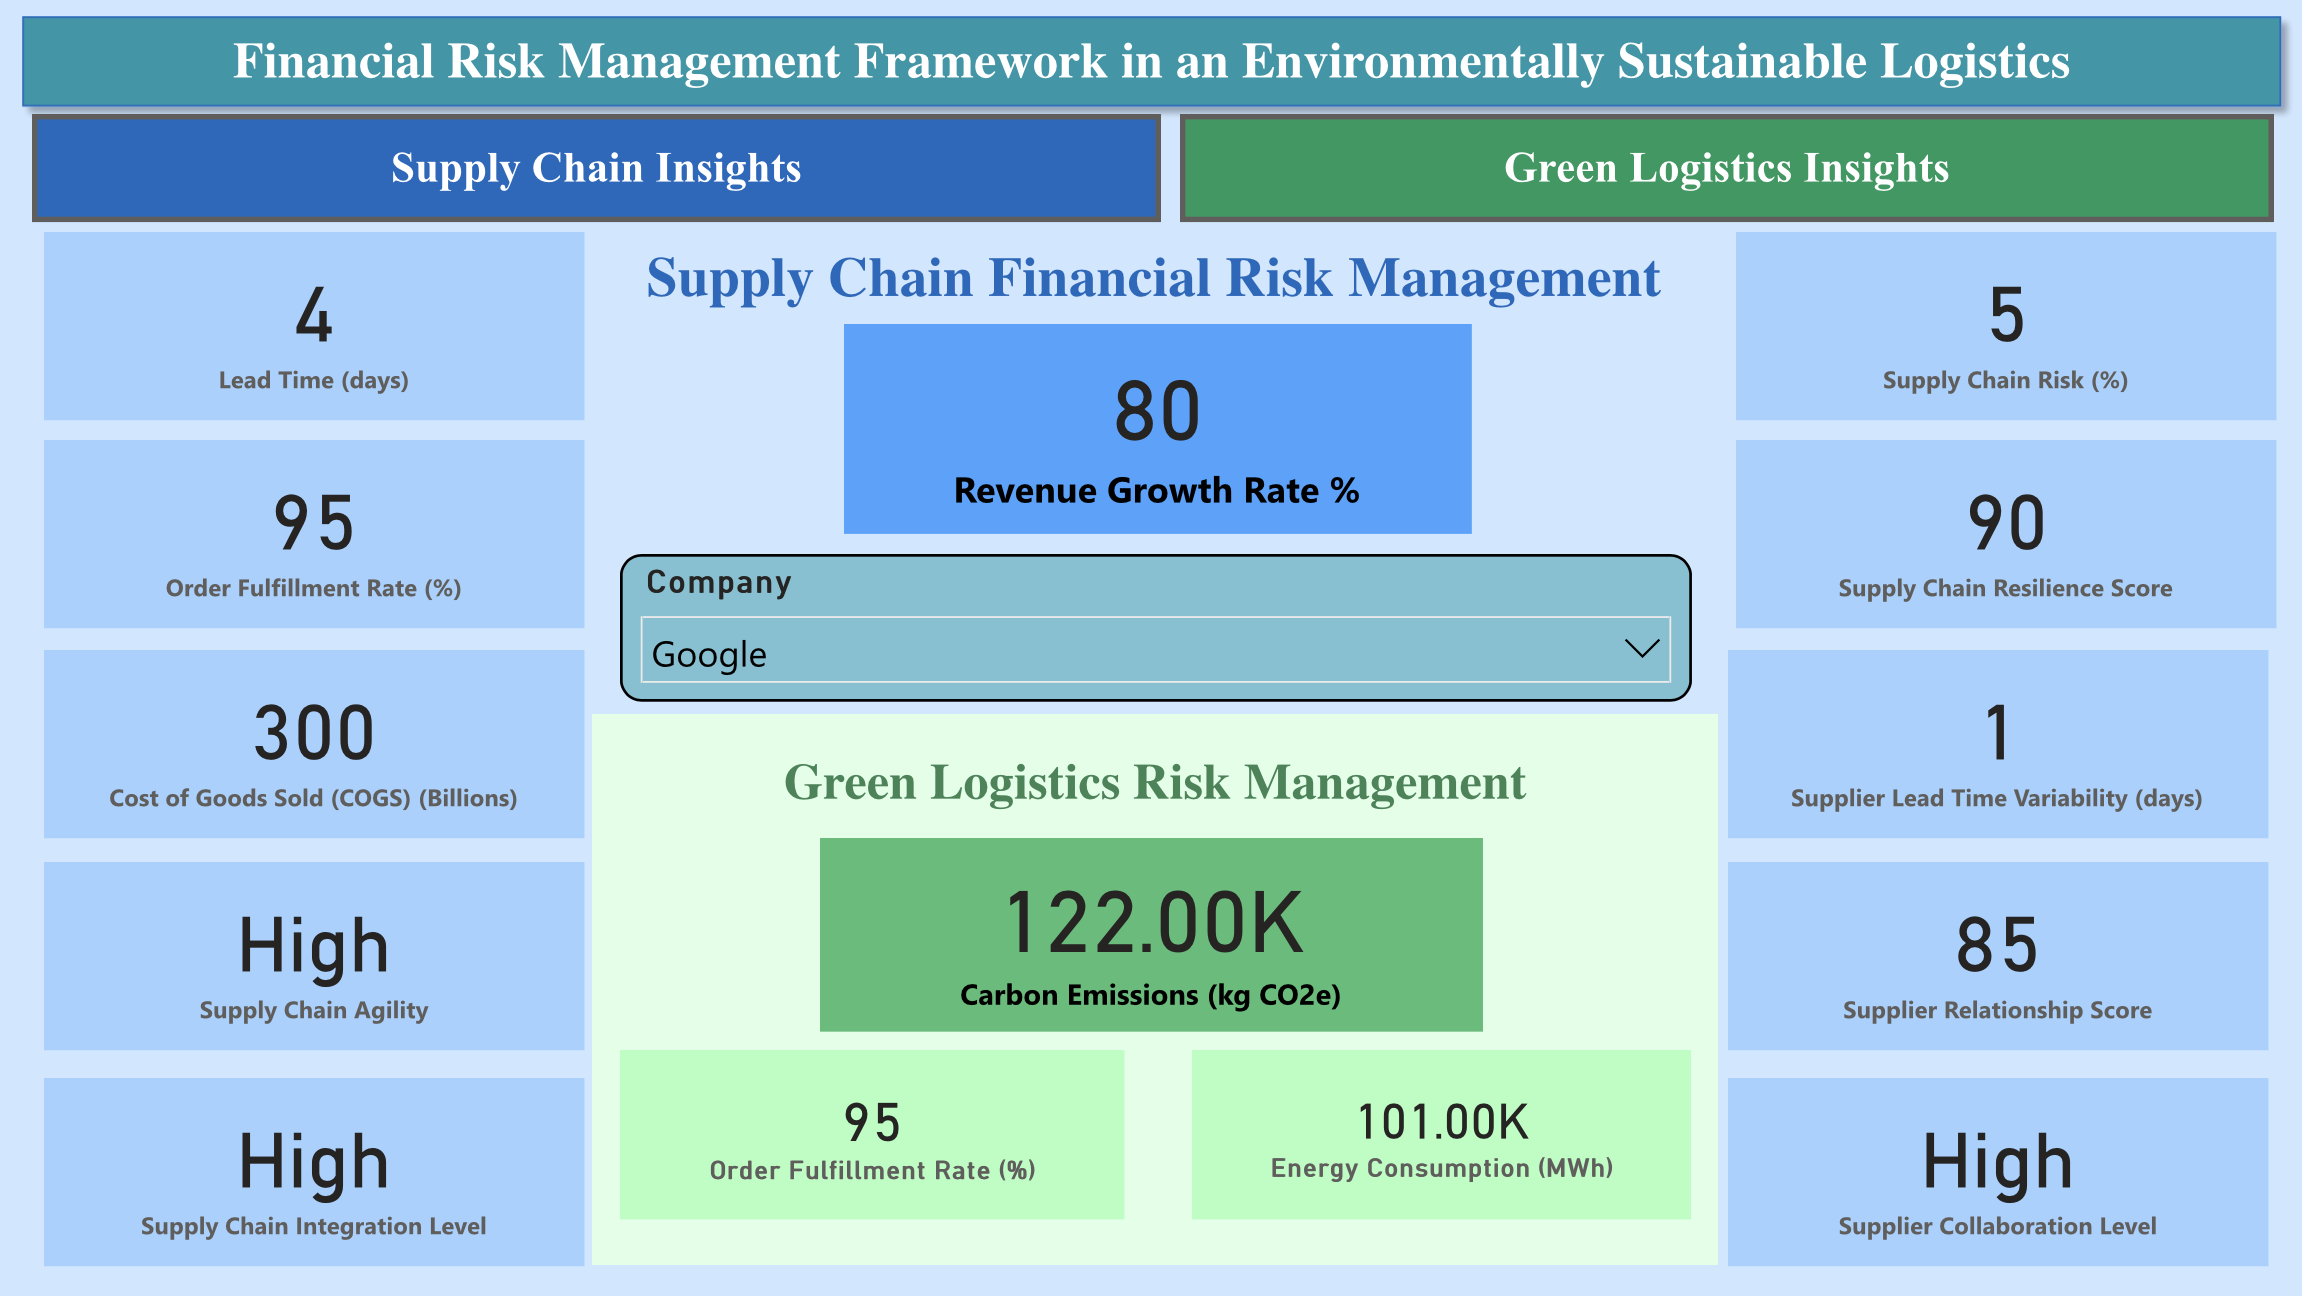

Layout of this report page (visuals, bound fields, positions):
{"tool":"powerbi","page":{"name":"Risk Management Framework","canvas":[1280,720],"ordinal":0},"visuals":[{"type":"shape","box":[4.5,0,1271.9,68.1],"z":0},{"type":"card","fields":{"Values":["Avg(Sheet1.Revenue Growth Rate %)"]},"box":[469.4,180.2,348.3,116.6],"z":3000},{"type":"card","fields":{"Values":["Avg(Sheet1.Lead Time (days))"]},"box":[25.7,128.7,299.8,104.5],"z":4000},{"type":"card","fields":{"Values":["Avg(Sheet1.Order Fulfillment Rate (%))"]},"box":[25.7,243.8,299.8,104.5],"z":5000},{"type":"card","fields":{"Values":["Min(Sheet1.Supply Chain Agility)"]},"box":[25.7,478.5,299.8,104.5],"z":6000},{"type":"card","fields":{"Values":["Min(Sheet1.Supply Chain Integration Level)"]},"box":[25.7,598.1,299.8,104.5],"z":7000},{"type":"card","fields":{"Values":["Avg(Sheet1.Supply Chain Risk (%))"]},"box":[964.5,128.7,299.8,104.5],"z":8000},{"type":"card","fields":{"Values":["Avg(Sheet1.Supply Chain Resilience Score)"]},"box":[964.5,243.8,299.8,104.5],"z":9000},{"type":"card","fields":{"Values":["Avg(Sheet1.Supplier Lead Time Variability (days))"]},"box":[960,360.4,299.8,104.5],"z":10000},{"type":"card","fields":{"Values":["Avg(Sheet1.Supplier Relationship Score)"]},"box":[960,478.5,299.8,104.5],"z":11000},{"type":"card","fields":{"Values":["Min(Sheet1.Supplier Collaboration Level)"]},"box":[960,598.1,299.8,104.5],"z":12000},{"type":"card","fields":{"Values":["Avg(Sheet1.Cost of Goods Sold (COGS) (Billions))"]},"box":[25.7,360.4,299.8,104.5],"z":13000},{"type":"shape","box":[330.1,396.7,625.4,305.9],"z":14000},{"type":"card","fields":{"Values":["Avg(Sheet1.Order Fulfillment Rate (%))"]},"box":[345.2,583,280.1,93.9],"z":15000},{"type":"card","fields":{"Values":["Avg(Sheet1.Energy Consumption (MWh))"]},"box":[663.2,583,277.1,93.9],"z":16000},{"type":"card","fields":{"Values":["Avg(Sheet1.Carbon Emissions (kg CO2e))"]},"box":[455.8,464.9,368,107.5],"z":17000},{"type":"slicer","fields":{"Values":["Sheet1.Company Name"]},"box":[345.2,307.4,595.1,81.8],"z":18000},{"type":"shape","box":[343.7,128.7,595.1,51.5],"z":19000},{"type":"actionButton","title":"Supply Chain Insights","box":[19.4,63.5,626.6,60],"z":19003},{"type":"actionButton","box":[656.6,63.5,607.2,60],"z":19004}]}

Visuals, with their boxes in screenshot pixels (x1, y1, x2, y2), scaled from the page's 1280x720 canvas onto the 2302x1296 screenshot:
shape: <box>8,0,2296,123</box>
card - Avg(Sheet1.Revenue Growth Rate %): <box>844,324,1471,534</box>
card - Avg(Sheet1.Lead Time (days)): <box>46,232,585,420</box>
card - Avg(Sheet1.Order Fulfillment Rate (%)): <box>46,439,585,627</box>
card - Min(Sheet1.Supply Chain Agility): <box>46,861,585,1049</box>
card - Min(Sheet1.Supply Chain Integration Level): <box>46,1077,585,1265</box>
card - Avg(Sheet1.Supply Chain Risk (%)): <box>1735,232,2274,420</box>
card - Avg(Sheet1.Supply Chain Resilience Score): <box>1735,439,2274,627</box>
card - Avg(Sheet1.Supplier Lead Time Variability (days)): <box>1726,649,2266,837</box>
card - Avg(Sheet1.Supplier Relationship Score): <box>1726,861,2266,1049</box>
card - Min(Sheet1.Supplier Collaboration Level): <box>1726,1077,2266,1265</box>
card - Avg(Sheet1.Cost of Goods Sold (COGS) (Billions)): <box>46,649,585,837</box>
shape: <box>594,714,1718,1265</box>
card - Avg(Sheet1.Order Fulfillment Rate (%)): <box>621,1049,1125,1218</box>
card - Avg(Sheet1.Energy Consumption (MWh)): <box>1193,1049,1691,1218</box>
card - Avg(Sheet1.Carbon Emissions (kg CO2e)): <box>820,837,1482,1030</box>
slicer - Sheet1.Company Name: <box>621,553,1691,701</box>
shape: <box>618,232,1688,324</box>
"Supply Chain Insights" actionButton: <box>35,114,1162,222</box>
actionButton: <box>1181,114,2273,222</box>
